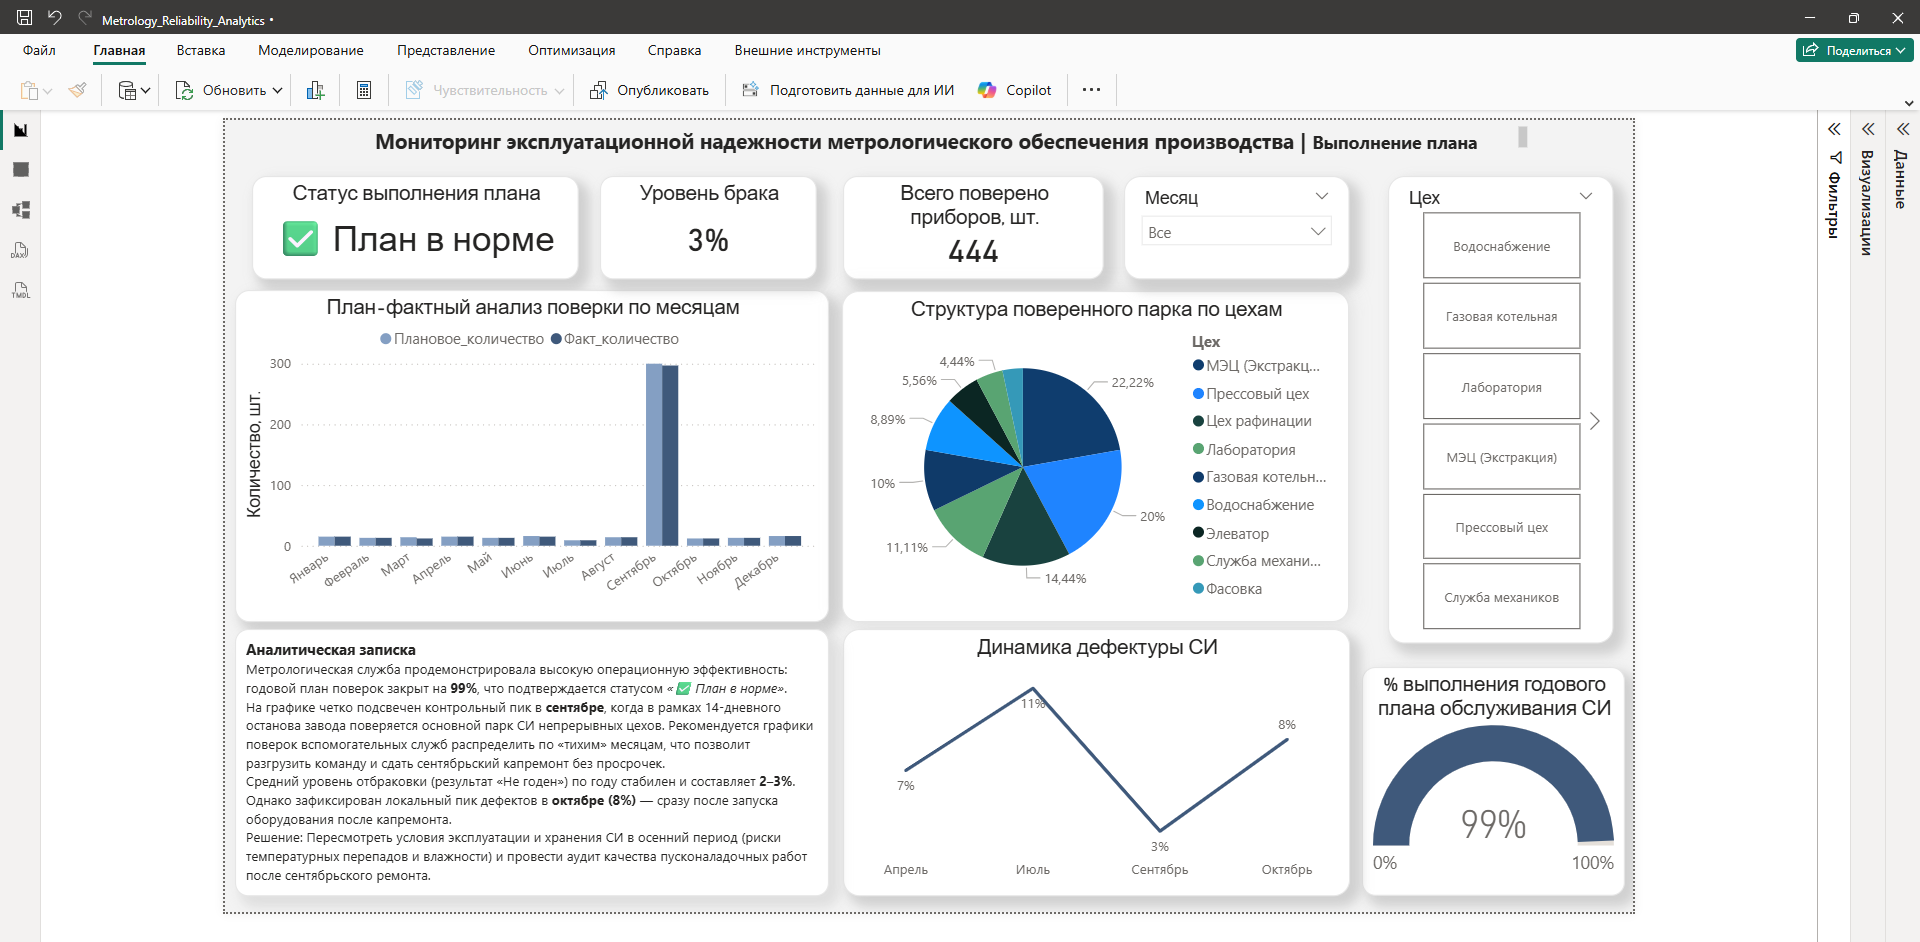

Layout of this report page (visuals, bound fields, positions):
{"tool":"powerbi","page":{"name":"Выполнение плана","canvas":[1280,720],"ordinal":0},"visuals":[{"type":"card","title":"Всего поверено приборов, шт.","fields":{"Values":["Меры.Факт_количество"]},"box":[561.5,51,237.3,94],"z":0},{"type":"gauge","title":"% выполнения годового плана обслуживания СИ","fields":{"Y":["Меры.Процент_выполнения"]},"box":[1033.6,497.3,239.1,208.2],"z":1000},{"type":"card","title":"Статус выполнения плана","fields":{"Values":["Меры.Сигнал_KPI"]},"box":[24.2,51,297.3,94],"z":2000},{"type":"clusteredColumnChart","title":"План-фактный анализ поверки по месяцам","fields":{"Category":["Календарь.Date.Изменение.Иерархия дат.Месяц"],"Y":["Меры.Плановое_количество","Меры.Факт_количество"]},"box":[9.1,154.5,540,301.8],"z":3000},{"type":"pieChart","title":"Структура поверенного парка по цехам","fields":{"Category":["Цеха.Цех"],"Y":["Меры.Плановое_количество"]},"box":[560.9,155.5,460.9,300.9],"z":4000},{"type":"card","title":"Уровень брака","fields":{"Values":["Меры.Процент_годных"]},"box":[341.2,51,197,94],"z":5000},{"type":"lineChart","title":"Динамика дефектуры СИ","fields":{"Category":["Календарь.Date.Изменение.Иерархия дат.Месяц"],"Y":["Меры.Процент_годных"]},"box":[561.8,462.7,460.9,242.7],"z":6000},{"type":"slicer","fields":{"Values":["Цеха.Цех"]},"box":[1057.6,51,205.1,425.4],"z":7000},{"type":"slicer","fields":{"Values":["Календарь.Date.Изменение.Иерархия дат.Месяц"]},"box":[817.6,51,205.1,94],"z":8000},{"type":"textbox","box":[130.7,0.9,1057.6,37.6],"z":9000},{"type":"textbox","box":[9.1,462.7,540,242.7],"z":10000}]}

Visuals, with their boxes on the page's 1280x720 design canvas (x1, y1, x2, y2). These are canvas units, not pixel positions in the 1920x942 screenshot, which may show the page scaled, cropped or inside an application window:
"Всего поверено приборов, шт." card: <box>562,51,799,145</box>
"% выполнения годового плана обслуживания СИ" gauge: <box>1034,497,1273,706</box>
"Статус выполнения плана" card: <box>24,51,322,145</box>
"План-фактный анализ поверки по месяцам" clusteredColumnChart: <box>9,154,549,456</box>
"Структура поверенного парка по цехам" pieChart: <box>561,156,1022,456</box>
"Уровень брака" card: <box>341,51,538,145</box>
"Динамика дефектуры СИ" lineChart: <box>562,463,1023,705</box>
slicer - Цеха.Цех: <box>1058,51,1263,476</box>
slicer - Календарь.Date.Изменение.Иерархия дат.Месяц: <box>818,51,1023,145</box>
textbox: <box>131,1,1188,38</box>
textbox: <box>9,463,549,705</box>
